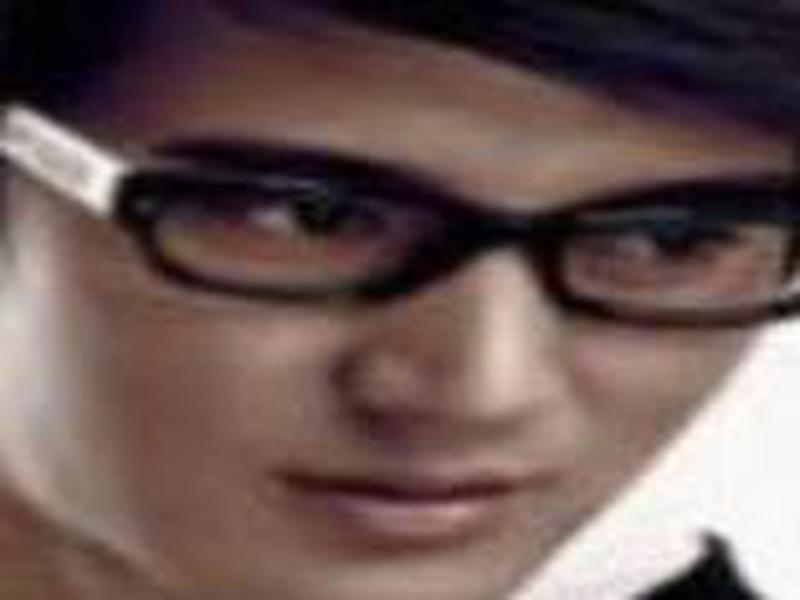without_mask: (12, 16, 785, 600)
